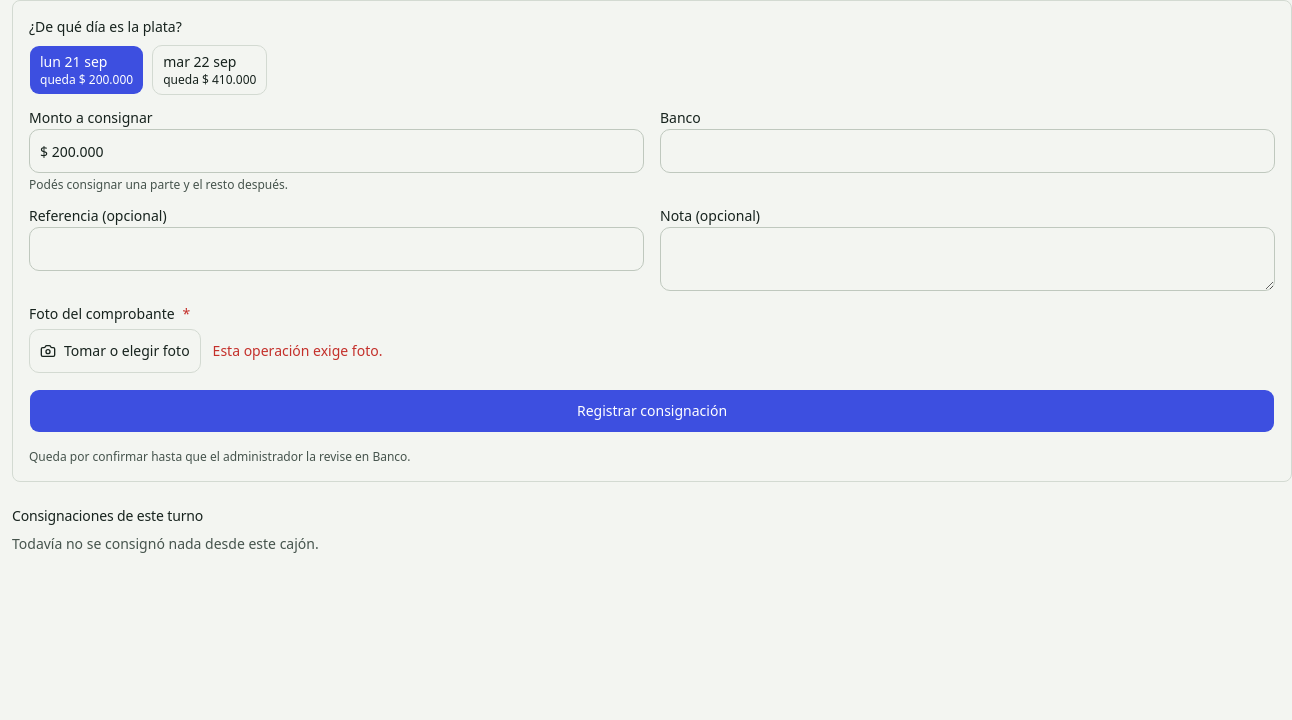
Test: DepositDrawerPanel — consignar desde el POS › sin foto del comprobante no se registra nada
Expected: the field labelled "Monto a consignar" is shown, [29,129,644,173]
Click the button "Registrar consignación" at coordinates (652, 411), box [29,389,1275,433]
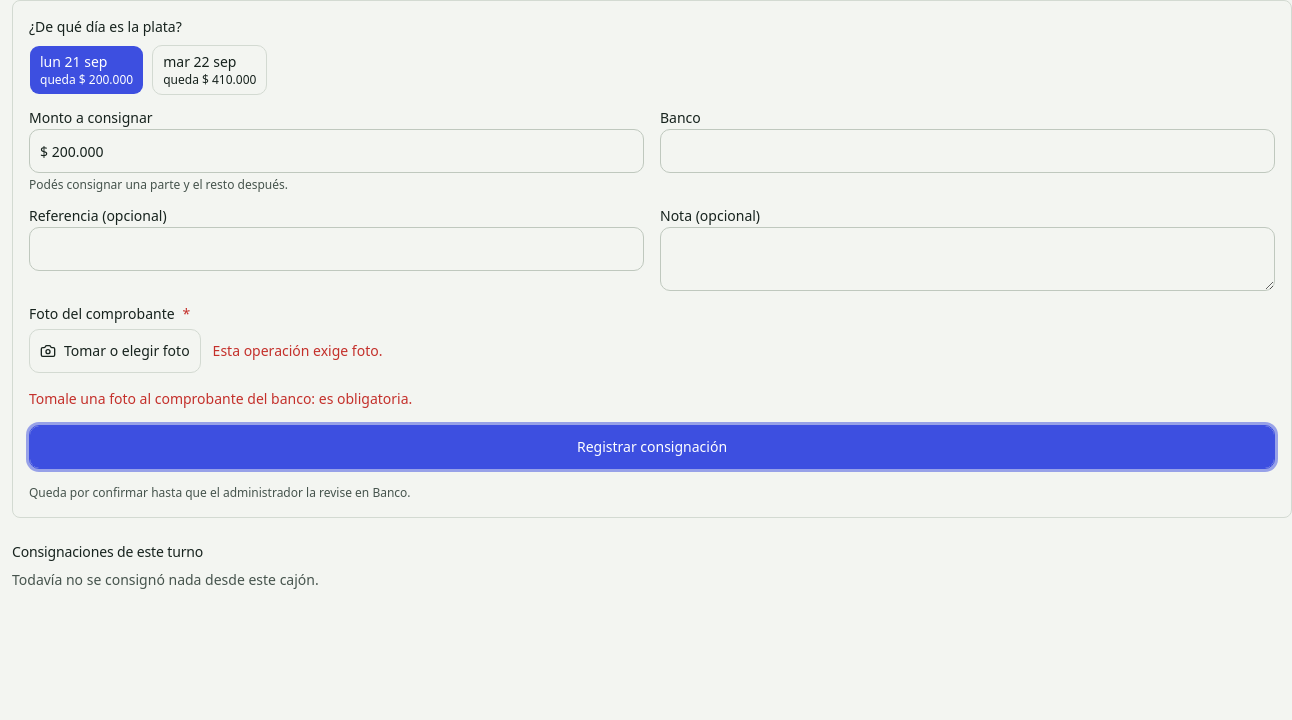
Result: the message shows "foto al comprobante" at [29,389,412,408]
